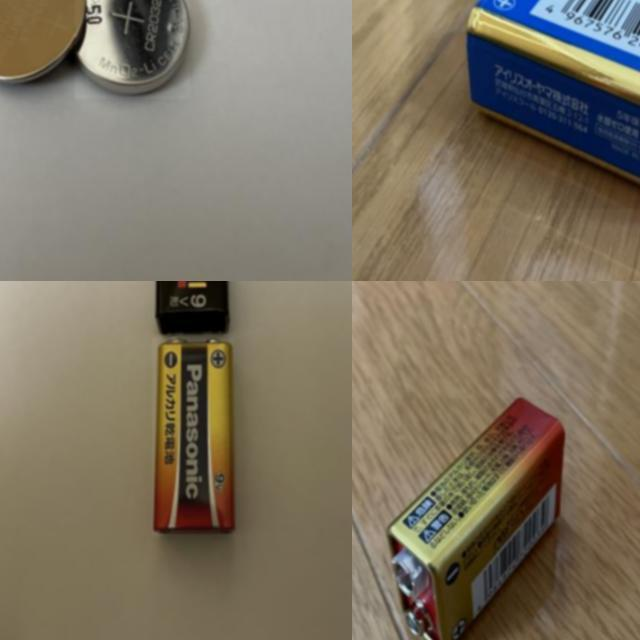9V: (383, 398, 565, 640), (464, 0, 640, 209), (152, 338, 234, 536), (154, 281, 229, 334)
